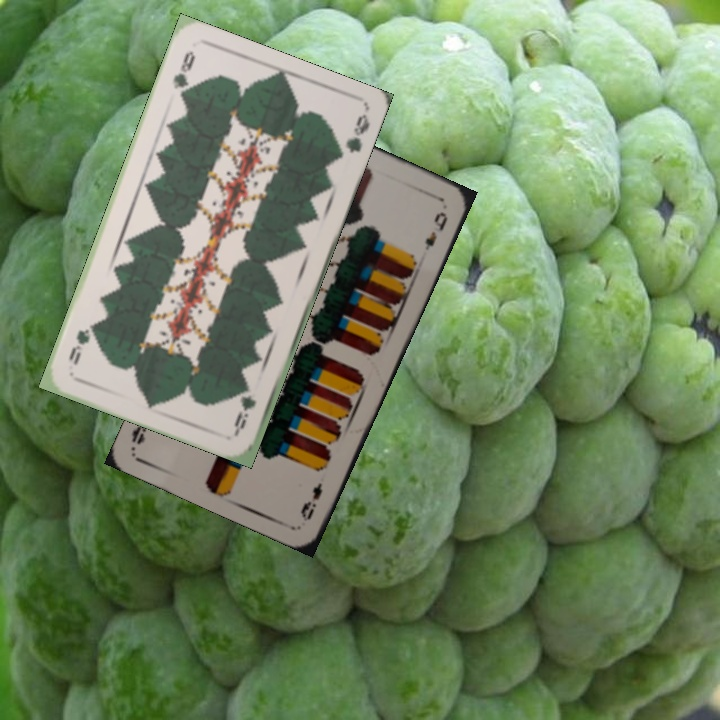E9: (296, 478, 326, 524)
G9: (169, 47, 198, 103), (230, 381, 259, 435)
